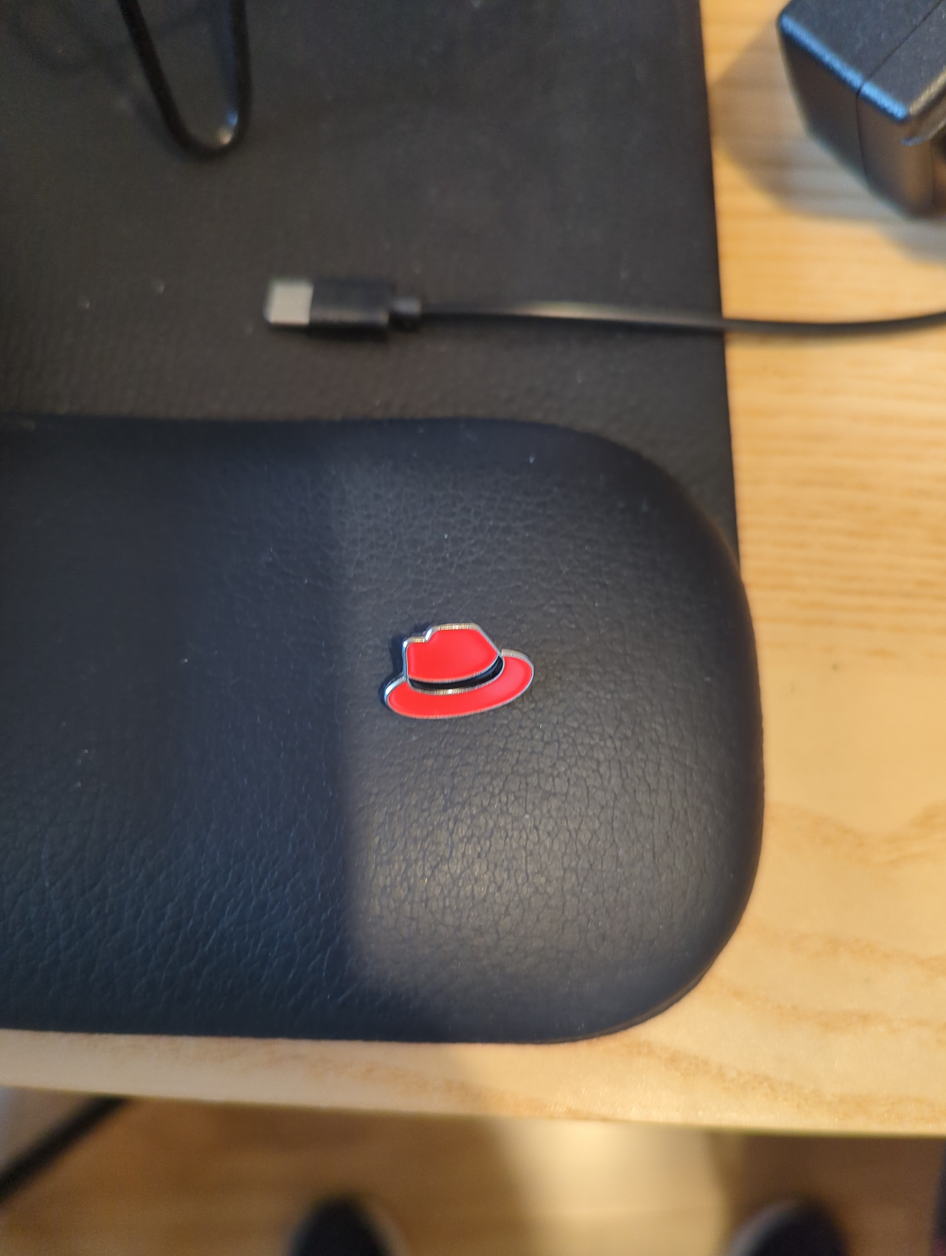Red-Hat: (365, 565, 587, 779)
